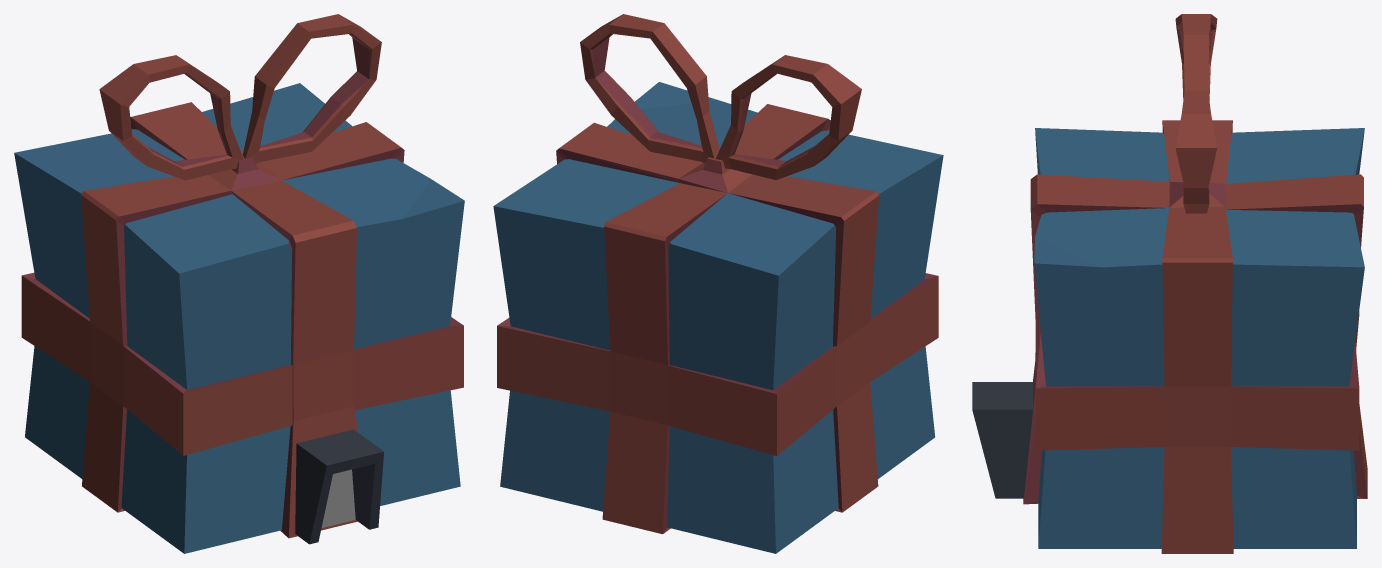
The model's file is jingmei.fbx.
3 views of the same model, side by side, from view 1: azimuth 30°, elevation 25°; view 2: azimuth 150°, elevation 25°; view 3: azimuth 270°, elevation 25° (orthographic).
Parts seen in each view (by area): view 1: 立方体.017; view 2: 立方体.017; view 3: 立方体.017.
Part boxes in pixels (box(x1,y1,x2,y2)): 立方体.017: box(14, 14, 464, 553); 立方体.017: box(493, 14, 943, 553); 立方体.017: box(972, 14, 1367, 553).
Bounding box in the file's own units: 191 × 267 × 226.
1 material, 1 textured.
